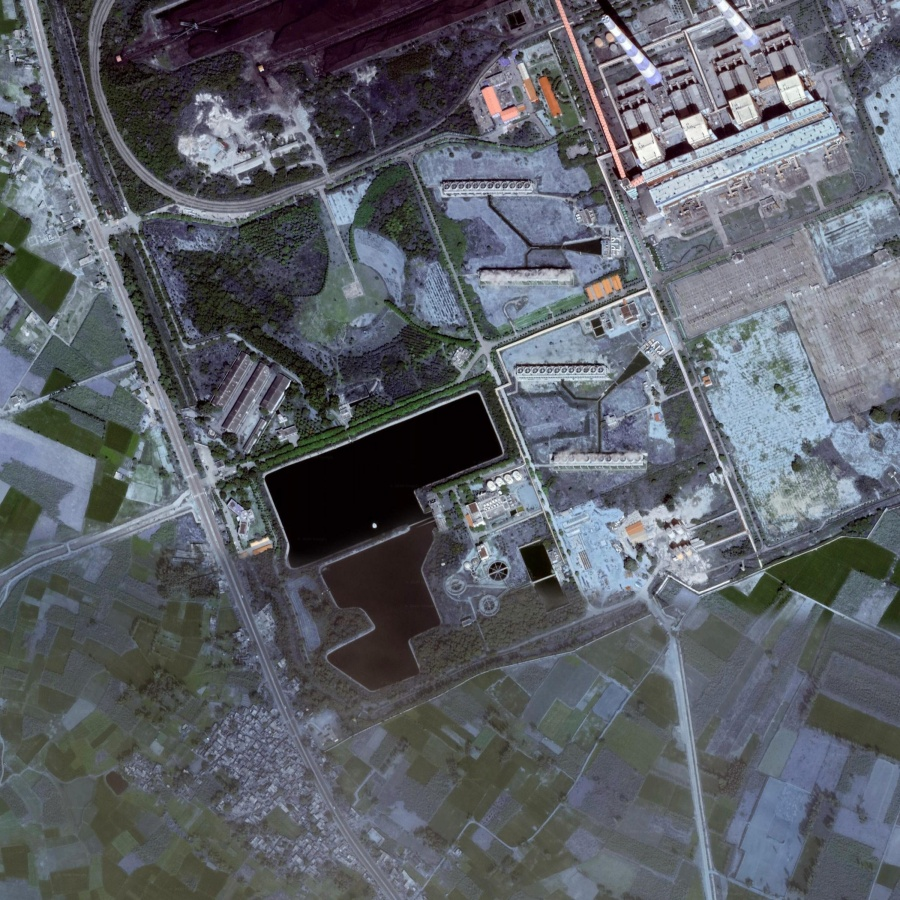PowerPlant: (244, 383, 514, 611)
